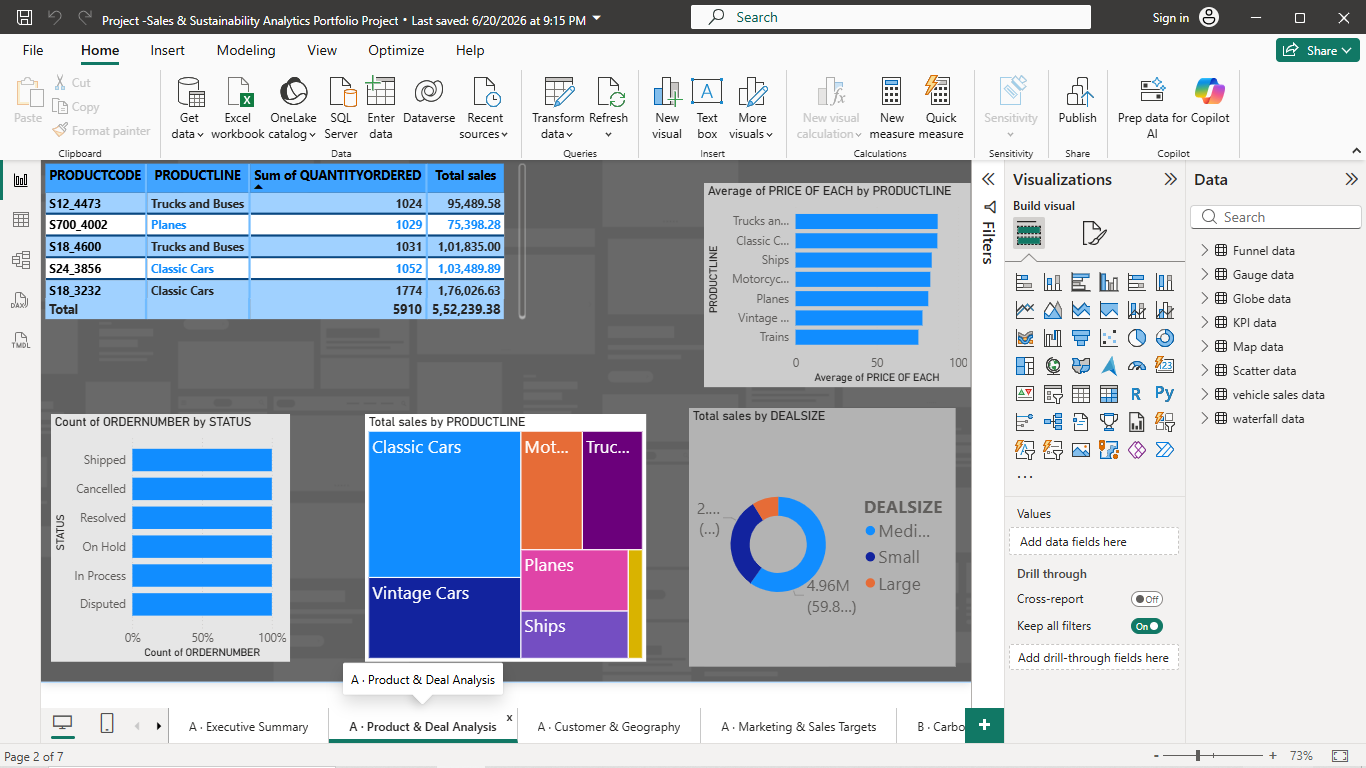

The page's visual inventory and layout, read from the dashboard file:
{"tool":"powerbi","page":{"name":"PROJECT-A- Product & Deal Analysis","canvas":[1280,720],"ordinal":1},"visuals":[{"type":"treemap","fields":{"Group":["vehicle sales data.PRODUCTLINE","vehicle sales data.PRODUCTCODE"],"Values":["vehicle sales data.Total sales"]},"box":[445.9,349.6,386.8,341.3],"z":0},{"type":"donutChart","fields":{"Category":["vehicle sales data.DEALSIZE"],"Y":["vehicle sales data.Total sales"]},"box":[891.9,341.3,367.5,356.5],"z":1000},{"type":"hundredPercentStackedBarChart","fields":{"Category":["vehicle sales data.STATUS"],"Y":["CountNonNull(vehicle sales data.ORDERNUMBER)"]},"box":[13.8,349.6,328.9,341.3],"z":2000},{"type":"tableEx","fields":{"Values":["vehicle sales data.PRODUCTCODE","vehicle sales data.PRODUCTLINE","Sum(vehicle sales data.QUANTITYORDERED)","vehicle sales data.Total sales"]},"box":[0,0,671.7,224.3],"z":3000},{"type":"barChart","fields":{"Category":["vehicle sales data.PRODUCTLINE"],"Y":["Avg(vehicle sales data.PRICE OF EACH)"]},"box":[912.5,31.7,367.5,280.8],"z":4000}]}

Visuals, with their boxes on the page's 1280x720 design canvas (x1, y1, x2, y2). These are canvas units, not pixel positions in the 1366x768 screenshot, which may show the page scaled, cropped or inside an application window:
treemap - vehicle sales data.PRODUCTLINE x vehicle sales data.PRODUCTCODE: <box>446,350,833,691</box>
donutChart - vehicle sales data.DEALSIZE x vehicle sales data.Total sales: <box>892,341,1259,698</box>
hundredPercentStackedBarChart - vehicle sales data.STATUS x CountNonNull(vehicle sales data.ORDERNUMBER): <box>14,350,343,691</box>
tableEx - vehicle sales data.PRODUCTCODE x vehicle sales data.PRODUCTLINE: <box>0,0,672,224</box>
barChart - vehicle sales data.PRODUCTLINE x Avg(vehicle sales data.PRICE OF EACH): <box>912,32,1280,312</box>
